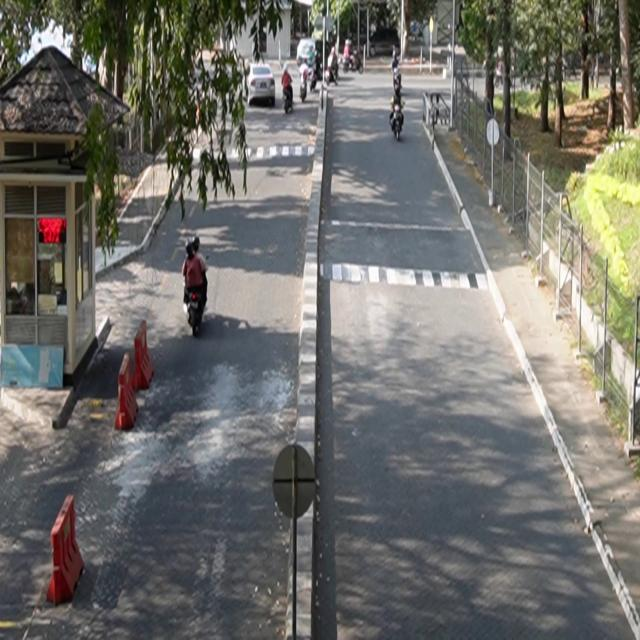car: (246, 64, 277, 107)
